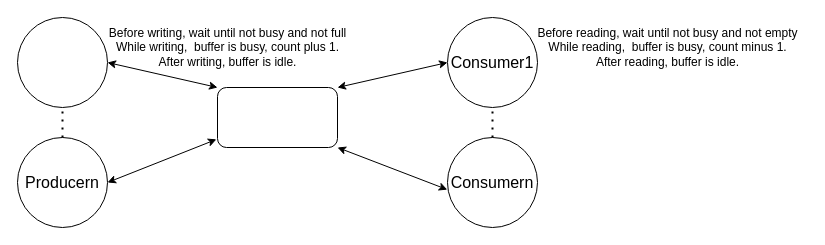
Image size: 825x245. Some labels were removed from this diagram. The shapes that lost their labels are listed below. From the top down, each one's centre as x and y in pixels, then its label:
At point (62, 62): "Producer1".
At point (277, 117): "buffer".
